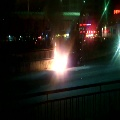fire: (47, 46, 67, 73)
